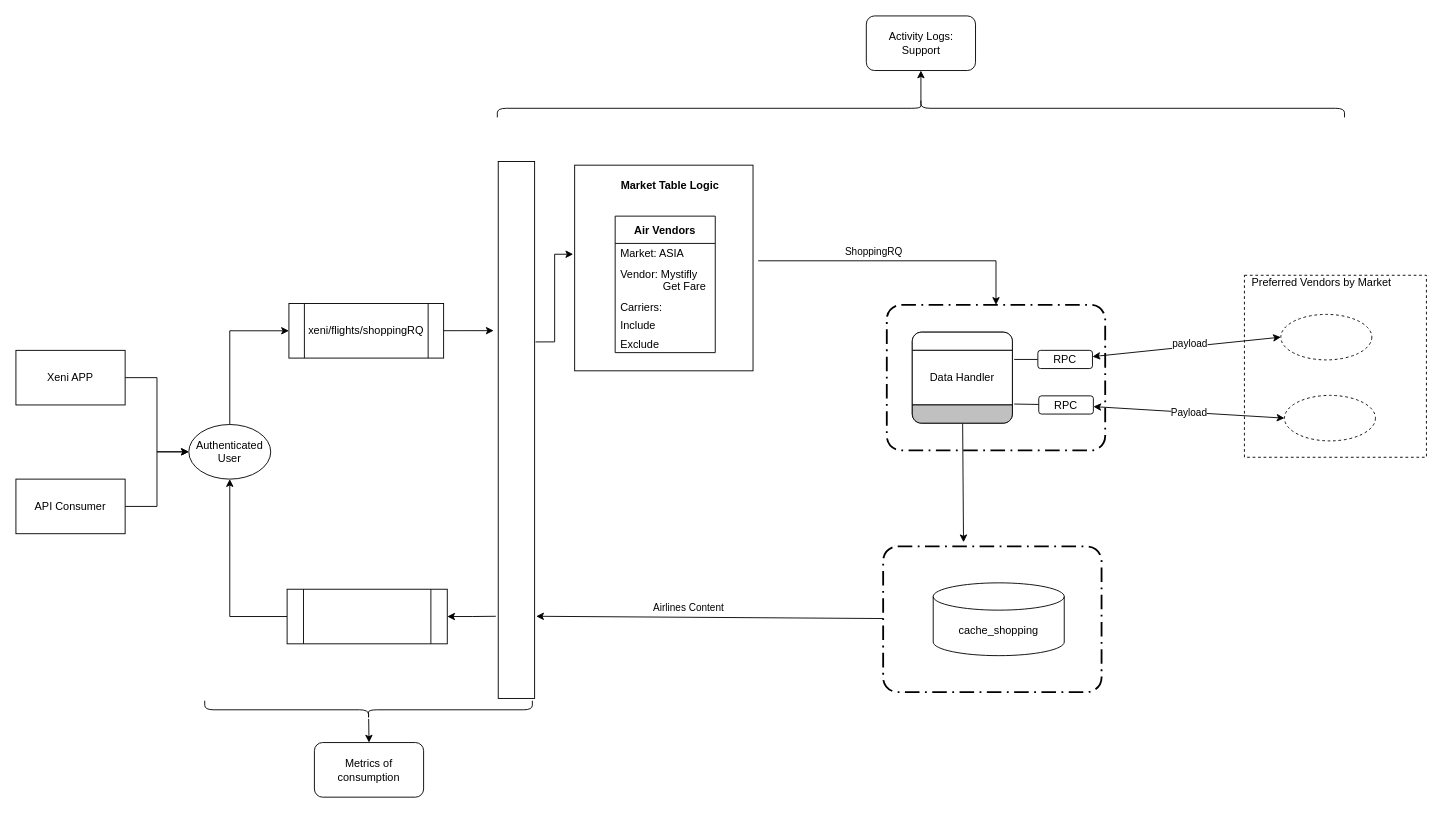
Image size: 1442x814. Some labels were removed from this diagram. The box of each missing label's shape, as (x1, y1, x2, y2) in pixels:
Cache instance: (882, 545, 1102, 693)
Middle ware: (885, 303, 1106, 451)
vendor 1: (1280, 313, 1372, 360)
Vendor 2: (1284, 394, 1375, 441)
X E N I A P I W R A P P E R: (497, 161, 535, 698)
Xeni/flights/shoppingRS: (286, 588, 447, 644)
